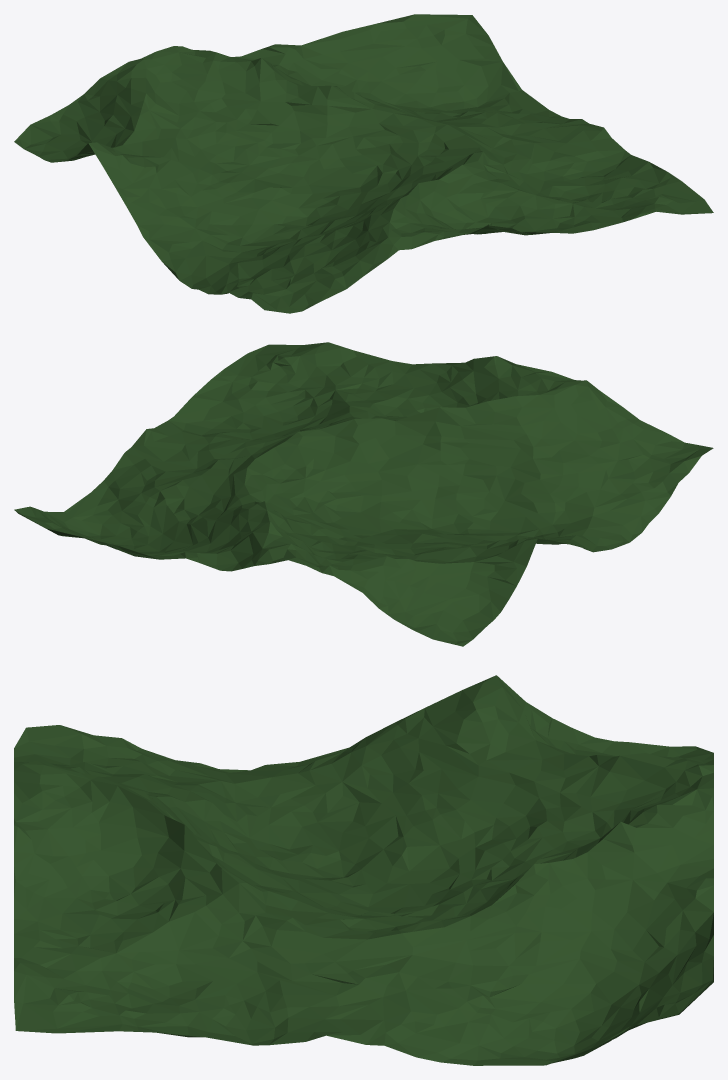
File: SM_landscape_04.fbx
The picture shows the model from 3 angles, top to bottom: view 1: azimuth 30°, elevation 25°; view 2: azimuth 150°, elevation 25°; view 3: azimuth 270°, elevation 25°; orthographic projection. The views are drawn at different scales.
Parts seen in each view (by area): view 1: landscape_04; view 2: landscape_04; view 3: landscape_04.
Part boxes in pixels (x1=…): landscape_04: x1=14, y1=14, x2=713, y2=313; landscape_04: x1=14, y1=342, x2=713, y2=646; landscape_04: x1=14, y1=675, x2=713, y2=1065.
Bounding box in the file's own units: 2224 × 382 × 2224.
